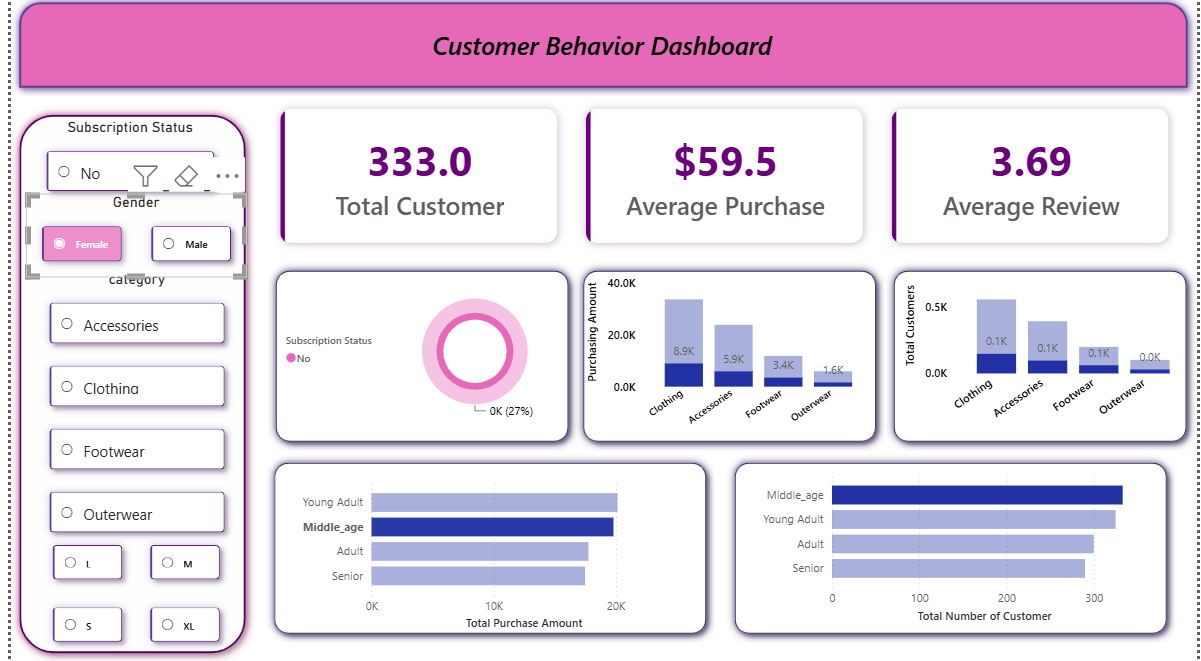

The page's visual inventory and layout, read from the dashboard file:
{"tool":"powerbi","page":{"name":"Page 1","canvas":[1280,720],"ordinal":0},"visuals":[{"type":"cardVisual","fields":{"Data":["public customer.total_customer","public customer.average_purchase","public customer.average_review"]},"box":[262.3,95.5,1018.5,202.4],"z":0},{"type":"shape","box":[276.7,289.6,333.8,202.4],"z":0,"group":"g1"},{"type":"group","id":"g1","title":"Group 1","box":[276.7,289.6,1000.7,202.4],"z":1000},{"type":"shape","box":[608.9,289.6,333.8,202.4],"z":1000,"group":"g1"},{"type":"shape","box":[943.5,289.6,333.8,202.4],"z":2000,"group":"g1"},{"type":"shape","box":[275.3,496.3,484.1,202.4],"z":2000},{"type":"donutChart","fields":{"Category":["public customer.subscription_status"],"Y":["public customer.total_customer"]},"box":[291.5,299.6,315.7,171.6],"z":3000},{"type":"clusteredColumnChart","fields":{"Y":["Sum(public customer.purchase_amount)"],"Category":["public customer.category"]},"box":[616.9,291.5,319,183],"z":4000},{"type":"clusteredColumnChart","fields":{"Category":["public customer.category"],"Y":["CountNonNull(public customer.customer_id)"]},"box":[960.2,291.5,319,179.7],"z":5000},{"type":"shape","box":[0,0,1279.2,110.1],"z":6000},{"type":"shape","box":[0,121.4,262.3,599.1],"z":7000},{"type":"advancedSlicerVisual","fields":{"Values":["public customer.subscription_status"]},"box":[21,134.4,215.4,95.5],"z":8000},{"type":"advancedSlicerVisual","fields":{"Values":["public customer.gender"]},"box":[16.2,215.4,238,90.7],"z":9000},{"type":"advancedSlicerVisual","fields":{"Values":["public customer.category"]},"box":[24.3,297.9,223.5,304.4],"z":10000},{"type":"advancedSlicerVisual","fields":{"Values":["public customer.size"]},"box":[21,582.9,228.3,137.6],"z":11000},{"type":"textbox","box":[254.2,32.4,767.5,63.1],"z":12000},{"type":"clusteredBarChart","fields":{"Category":["public customer.age_group"],"Y":["Sum(public customer.purchase_amount)"]},"box":[302.8,514.9,430.7,176.5],"z":13000},{"type":"shape","box":[772.4,496.3,484.1,202.4],"z":14000},{"type":"clusteredBarChart","fields":{"Category":["public customer.age_group"],"Y":["CountNonNull(public customer.customer_id)"]},"box":[799.9,506.8,430.7,176.5],"z":15000}]}

Visuals, with their boxes in screenshot pixels (x1, y1, x2, y2), scaled from the page's 1280x720 canvas onto the 1201x661 screenshot:
cardVisual - public customer.total_customer x public customer.average_purchase: rect(246, 88, 1200, 273)
shape: rect(260, 266, 573, 452)
"Group 1" group: rect(260, 266, 1199, 452)
shape: rect(571, 266, 885, 452)
shape: rect(885, 266, 1198, 452)
shape: rect(258, 456, 713, 641)
donutChart - public customer.subscription_status x public customer.total_customer: rect(274, 275, 570, 433)
clusteredColumnChart - Sum(public customer.purchase_amount) x public customer.category: rect(579, 268, 878, 436)
clusteredColumnChart - public customer.category x CountNonNull(public customer.customer_id): rect(901, 268, 1200, 433)
shape: rect(0, 0, 1200, 101)
shape: rect(0, 111, 246, 660)
advancedSlicerVisual - public customer.subscription_status: rect(20, 123, 222, 211)
advancedSlicerVisual - public customer.gender: rect(15, 198, 239, 281)
advancedSlicerVisual - public customer.category: rect(23, 273, 233, 553)
advancedSlicerVisual - public customer.size: rect(20, 535, 234, 660)
textbox: rect(239, 30, 959, 88)
clusteredBarChart - public customer.age_group x Sum(public customer.purchase_amount): rect(284, 473, 688, 635)
shape: rect(725, 456, 1179, 641)
clusteredBarChart - public customer.age_group x CountNonNull(public customer.customer_id): rect(751, 465, 1155, 627)
